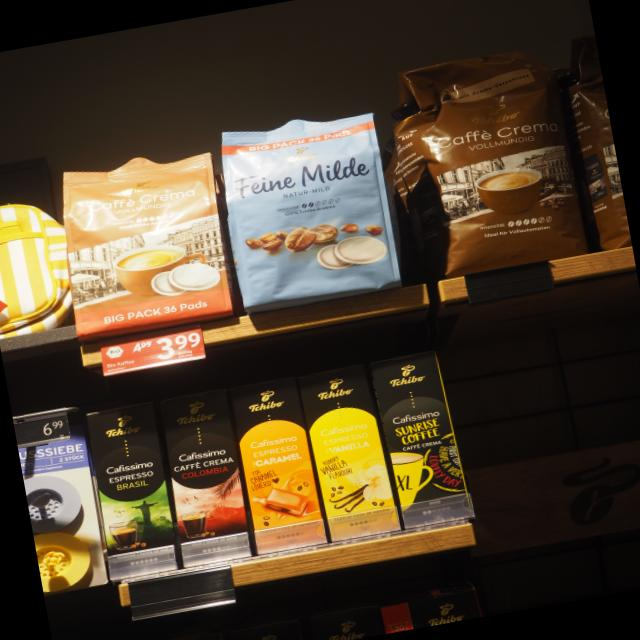CC Vollmundig: (43, 138, 244, 342)
CC Vollmundig 36 Pads: (371, 37, 598, 286)
FM 36 Pads: (208, 101, 406, 318)
Simo CC Colombia: (154, 387, 253, 570)
Simo Es Brazil: (83, 400, 182, 580)
Simo Es Caramel: (227, 375, 329, 557)
Simo Es Vanilla: (297, 362, 403, 544)
Simo Sunrise: (367, 347, 477, 531)
